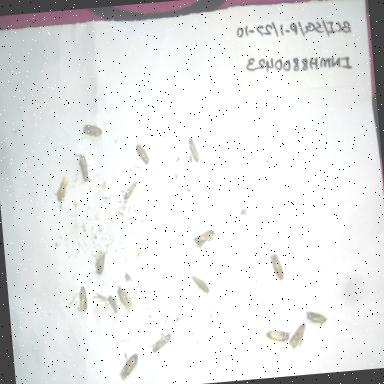pbw: (182, 128, 210, 170), (70, 150, 98, 190), (188, 268, 220, 300), (190, 222, 220, 256), (114, 350, 142, 384), (264, 247, 289, 284), (146, 327, 176, 357), (78, 117, 108, 146), (302, 302, 330, 333), (114, 281, 139, 315), (74, 282, 96, 320), (51, 171, 73, 208), (132, 138, 156, 170), (261, 322, 290, 348), (287, 321, 312, 351), (91, 246, 114, 278), (118, 178, 144, 204), (106, 290, 121, 318)
